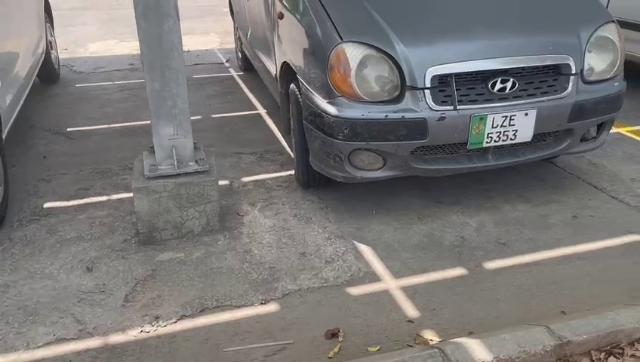plate: (463, 110, 537, 146)
